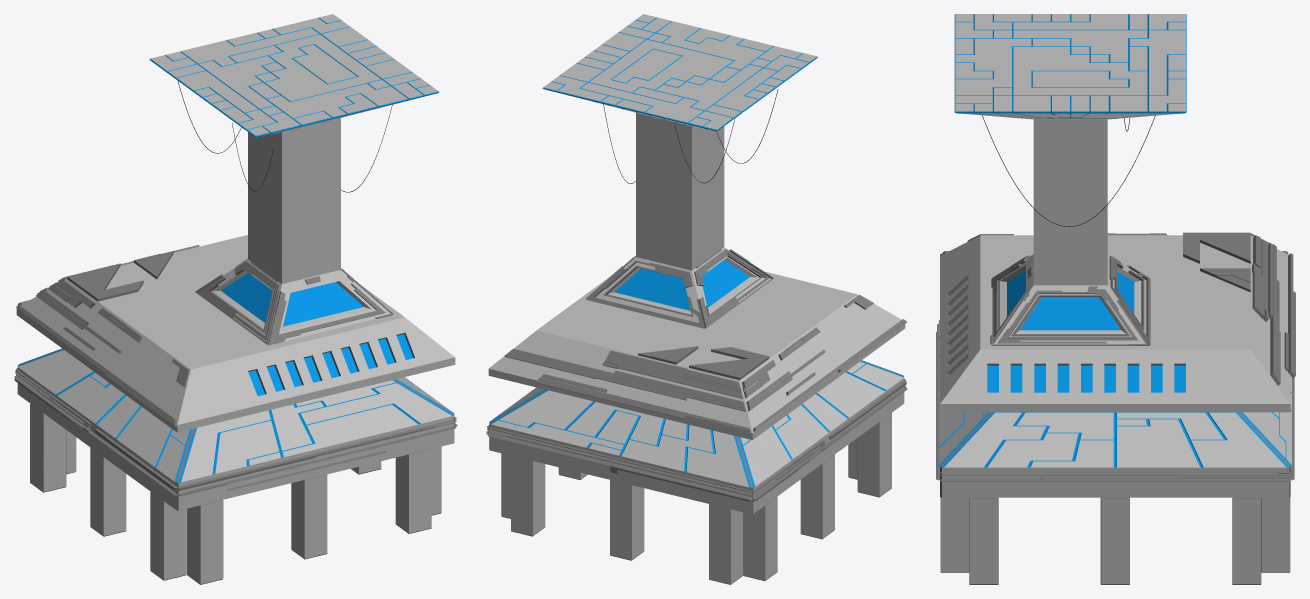
The model's file is Building_06.fbx.
3 views of the same model, side by side, from view 1: azimuth 30°, elevation 25°; view 2: azimuth 150°, elevation 25°; view 3: azimuth 270°, elevation 25° (orthographic). The views are drawn at different scales.
Visible parts, largest first — view 1: Building_06_Bottom, Building_06_Top, Building_06_Center, Building_06_Details; view 2: Building_06_Bottom, Building_06_Top, Building_06_Center, Building_06_Details; view 3: Building_06_Top, Building_06_Center, Building_06_Bottom, Building_06_Details.
Part boxes in pixels (bbox=[...]): Building_06_Bottom: bbox=[17, 348, 454, 584]; Building_06_Top: bbox=[149, 14, 439, 342]; Building_06_Center: bbox=[16, 235, 455, 432]; Building_06_Details: bbox=[14, 245, 457, 496]; Building_06_Bottom: bbox=[489, 360, 904, 584]; Building_06_Top: bbox=[542, 14, 817, 322]; Building_06_Center: bbox=[488, 271, 905, 439]; Building_06_Details: bbox=[486, 249, 907, 501]; Building_06_Top: bbox=[954, 14, 1186, 344]; Building_06_Center: bbox=[940, 235, 1290, 412]; Building_06_Bottom: bbox=[938, 320, 1291, 584]; Building_06_Details: bbox=[936, 232, 1295, 481].
Size of the model in its own units: 1227 by 1770 by 1231.
